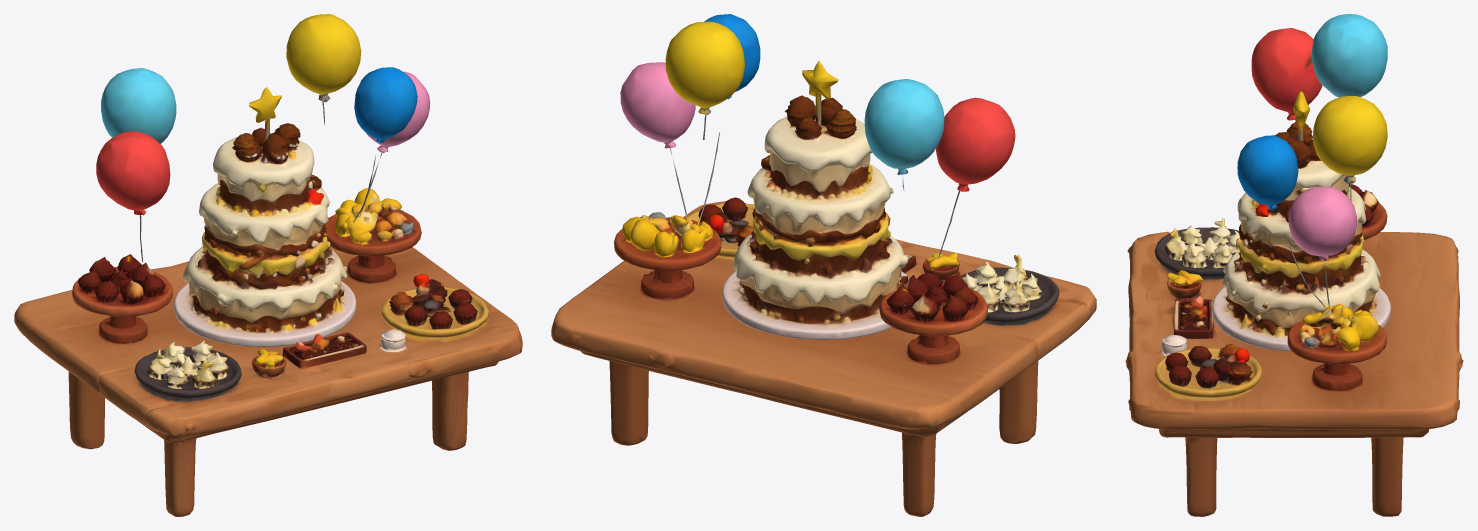
The model's file is festa_bolo.glb.
3 renders of one model, left to right at view 1: azimuth 30°, elevation 25°; view 2: azimuth 150°, elevation 25°; view 3: azimuth 270°, elevation 25°, orthographic. The views are drawn at different scales.
Visible parts, largest first — view 1: tripo_node_d3c28c33-0359-439e-8454-21cece2e1ee9; view 2: tripo_node_d3c28c33-0359-439e-8454-21cece2e1ee9; view 3: tripo_node_d3c28c33-0359-439e-8454-21cece2e1ee9.
Part boxes in pixels (x1=…): tripo_node_d3c28c33-0359-439e-8454-21cece2e1ee9: x1=14, y1=14, x2=522, y2=516; tripo_node_d3c28c33-0359-439e-8454-21cece2e1ee9: x1=551, y1=14, x2=1096, y2=516; tripo_node_d3c28c33-0359-439e-8454-21cece2e1ee9: x1=1125, y1=14, x2=1463, y2=516.
Size of the model in its own units: 0.9813 by 0.9757 by 0.7713.
1 material, 1 textured.
